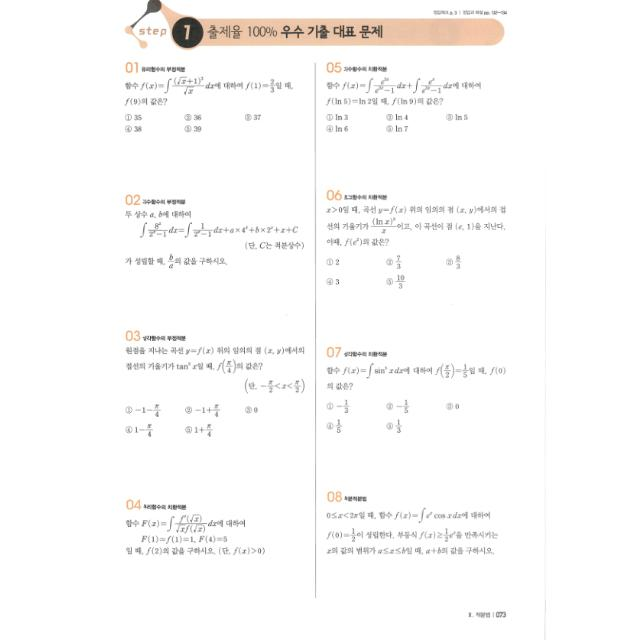multiple: (116, 320, 310, 448), (319, 182, 513, 298), (318, 339, 510, 447), (115, 53, 299, 143), (318, 54, 490, 140)
short: (118, 185, 308, 278), (319, 484, 506, 564), (115, 486, 277, 566)
